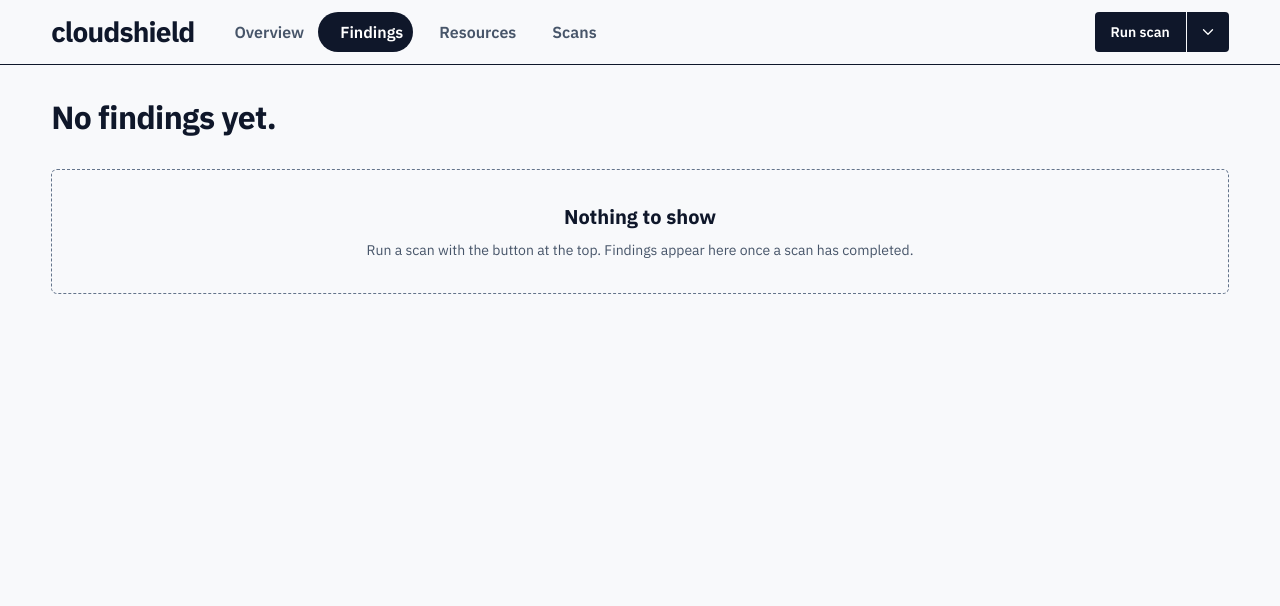
Header: the navigation oval › moves the same element to the new item and keeps aria-current on the active link
Click the link "Scans": (574, 32) [552,22,597,42]
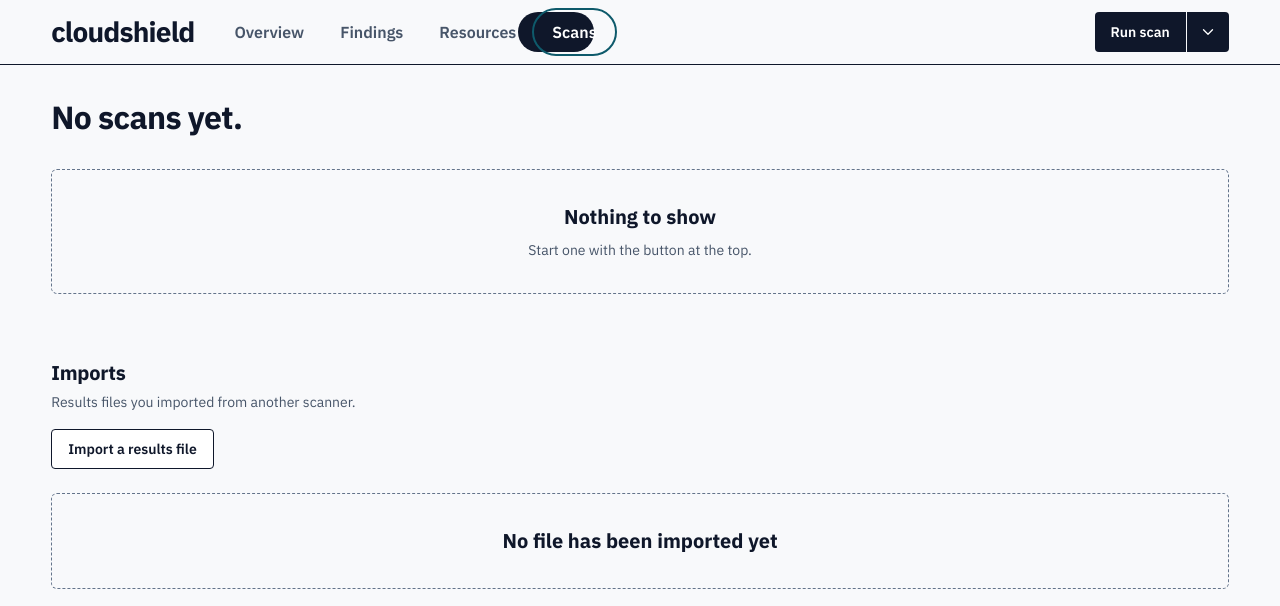
Expected: the link "Scans" is marked as current, [552,22,597,42]
Expected: the link "Findings" does not have attribute aria-current, [340,22,403,42]
